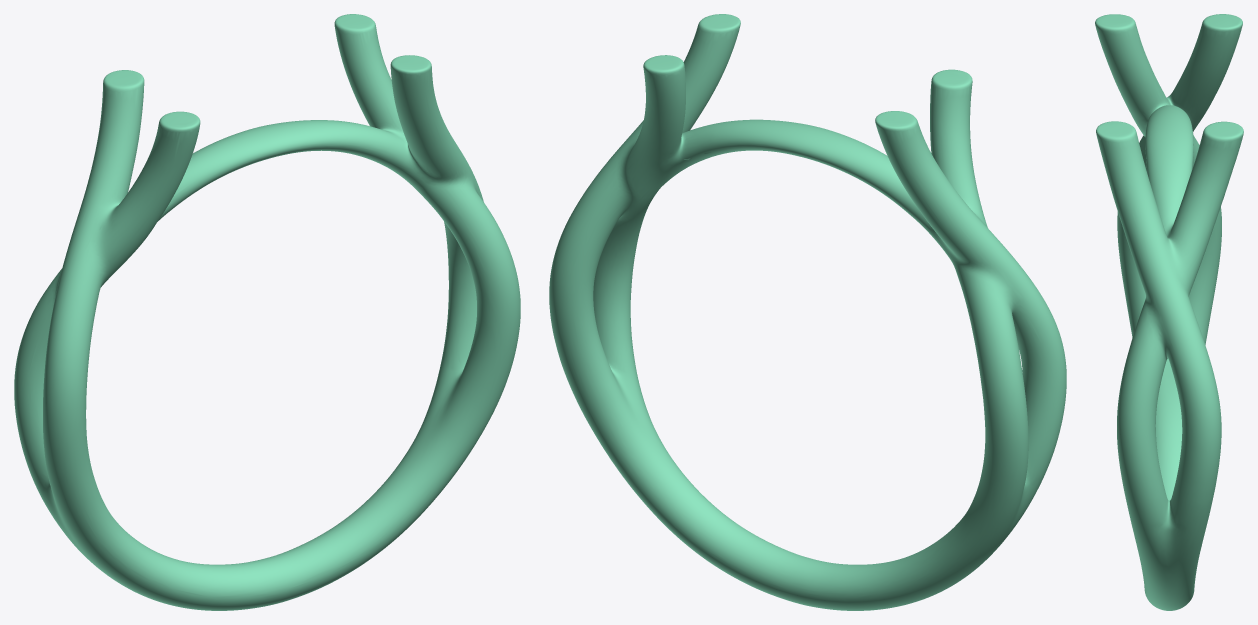
3 renders of one model, left to right at view 1: azimuth 30°, elevation 25°; view 2: azimuth 150°, elevation 25°; view 3: azimuth 270°, elevation 25°, orthographic. The views are drawn at different scales.
Parts seen in each view (by area): view 1: Metal02; view 2: Metal02; view 3: Metal02.
Boxes of the visible parts, bbox=[...] form: Metal02: bbox=[14, 14, 520, 610]; Metal02: bbox=[549, 14, 1066, 610]; Metal02: bbox=[1095, 14, 1243, 610].
Size of the model in its own units: 21.26 by 22.64 by 5.96.
